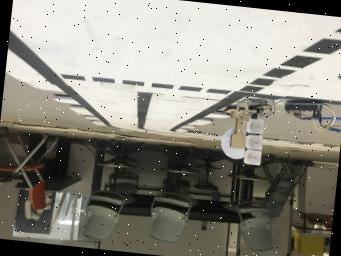street: (8, 0, 341, 135), (8, 0, 341, 135), (8, 0, 341, 135), (8, 0, 341, 135), (8, 0, 341, 135), (8, 0, 341, 135)
traffic_light: (235, 97, 275, 166), (235, 97, 275, 166), (235, 97, 275, 166), (235, 97, 275, 166), (235, 97, 275, 166), (235, 97, 275, 166)
